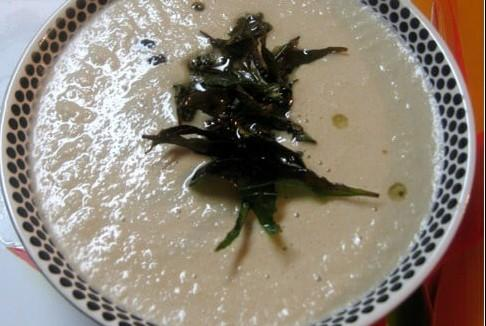CoconutChutney: (33, 0, 441, 326)
